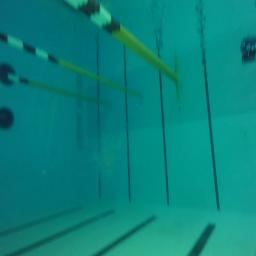Full: (241, 51, 256, 65)
